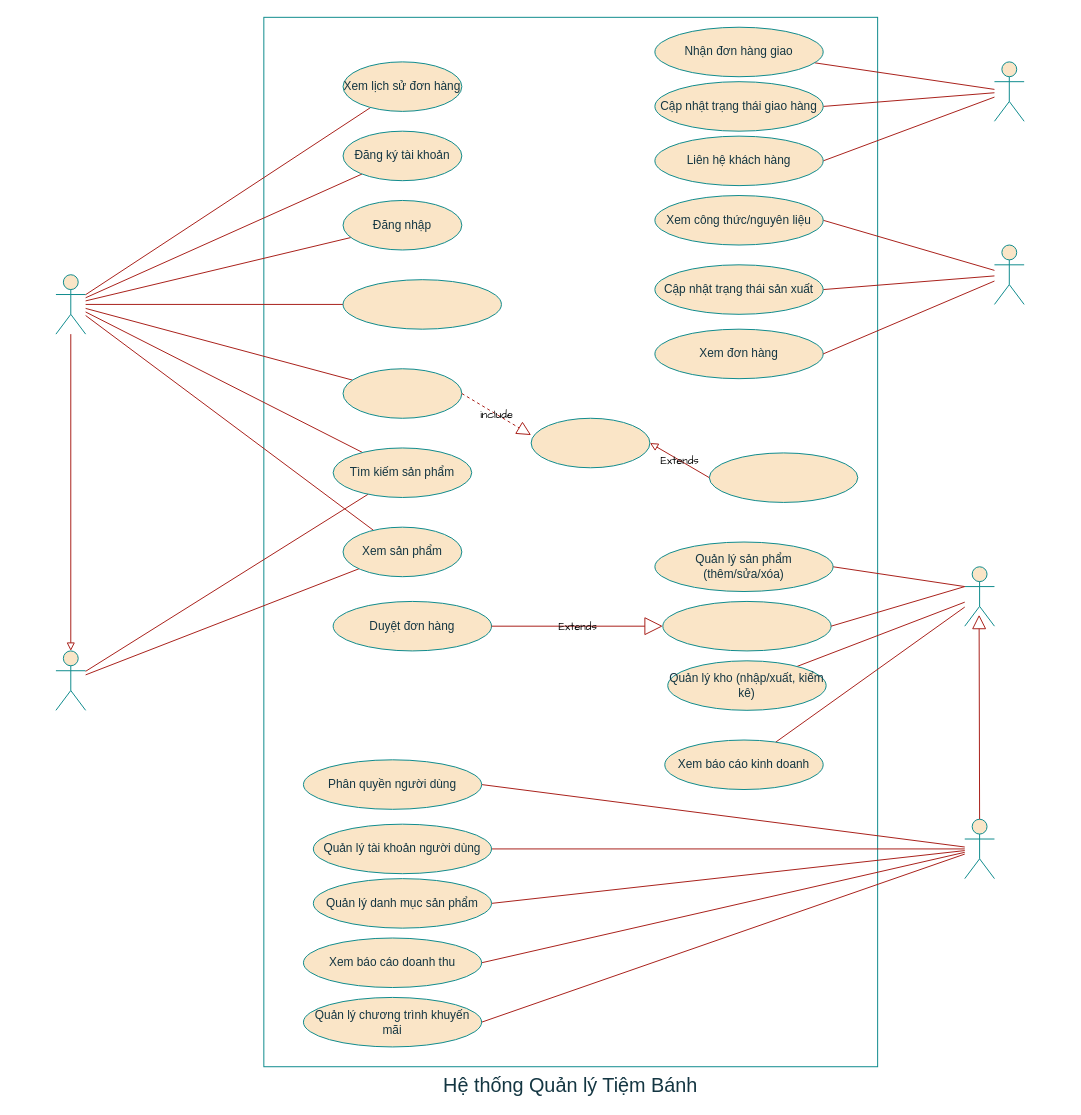
Some shapes in this 1081 by 1115 pixel diagram are drawn without their labels. Each missing label, with the box of its shape:
Cập nhật thông tin cá nhân: (342, 279, 501, 329)
Khách hàng: (55, 274, 86, 334)
Khách hàng vãng lai: (55, 650, 86, 710)
Nhân viên giao hàng: (993, 61, 1024, 121)
Nhân viên làm bánh: (993, 244, 1024, 304)
Nhận đơn hàng làm bánh: (662, 600, 831, 651)
Quản lý: (964, 566, 994, 626)
Quản trị viên (Admin): (964, 818, 994, 879)
Thanh toán: (530, 417, 650, 468)
Áp dụng mã giảm giá: (708, 452, 858, 502)
Đặt hàng: (342, 368, 462, 418)
